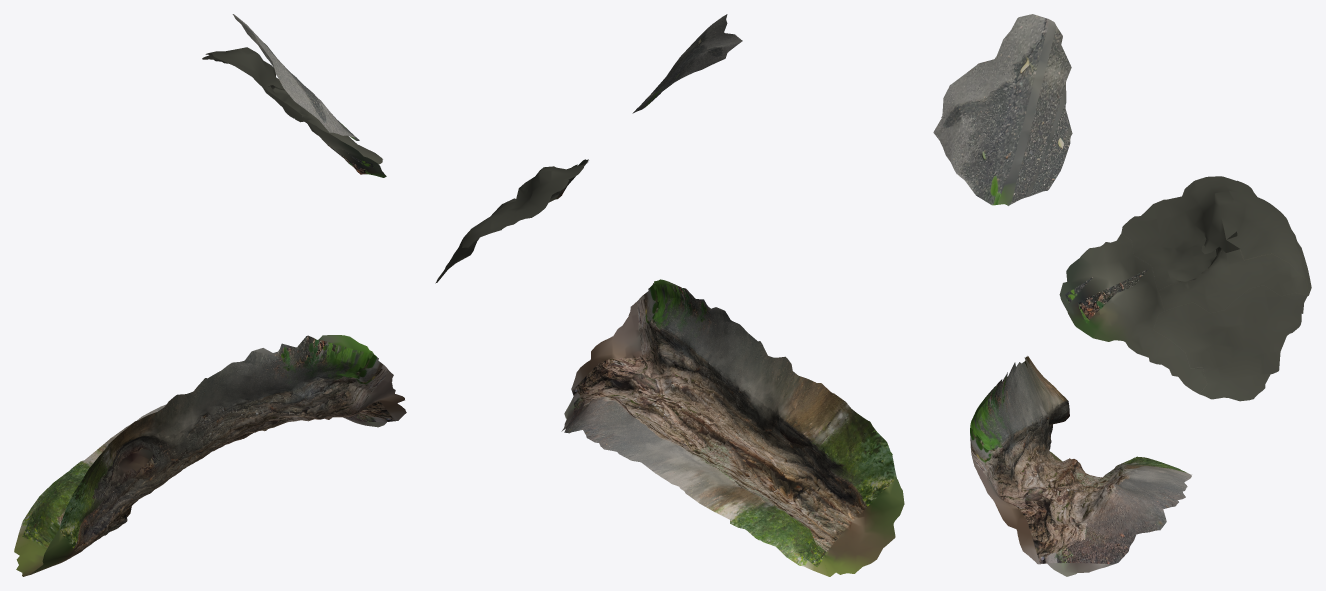
3 renders of one model, left to right at view 1: azimuth 30°, elevation 25°; view 2: azimuth 150°, elevation 25°; view 3: azimuth 270°, elevation 25°, orthographic. The views are drawn at different scales.
Parts seen in each view (by area): view 1: Model; view 2: Model; view 3: Model.
Boxes of the visible parts, x1,y1,x2,y2 form: Model: (14, 14, 406, 576); Model: (435, 14, 904, 576); Model: (933, 14, 1311, 576).
Size of the model in its own units: 0.8085 by 1 by 0.6099.
Materials: 1 (1 with a texture image).
